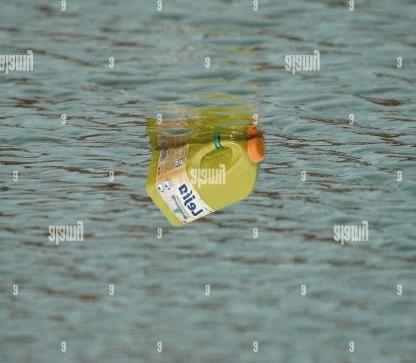Plastic: (146, 131, 268, 231)
